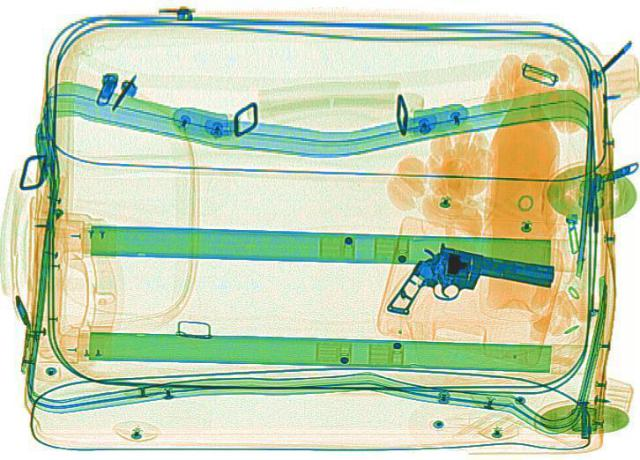Gun: (372, 226, 566, 347)
